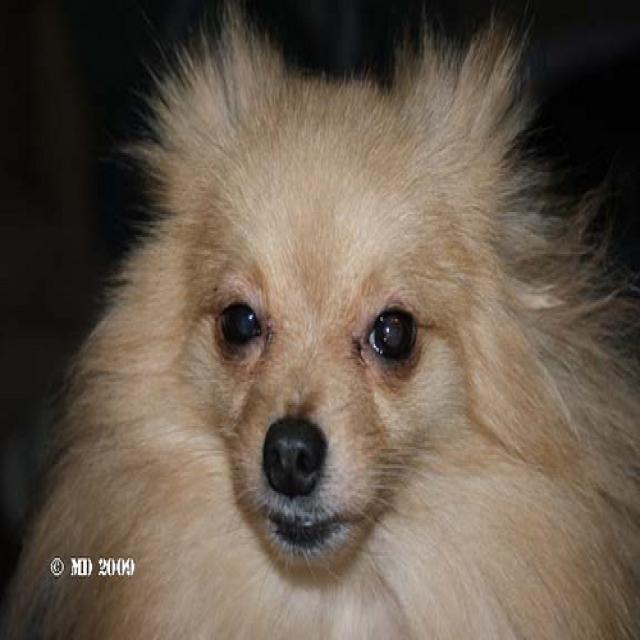dog-pomeranian: (1, 2, 637, 636)
